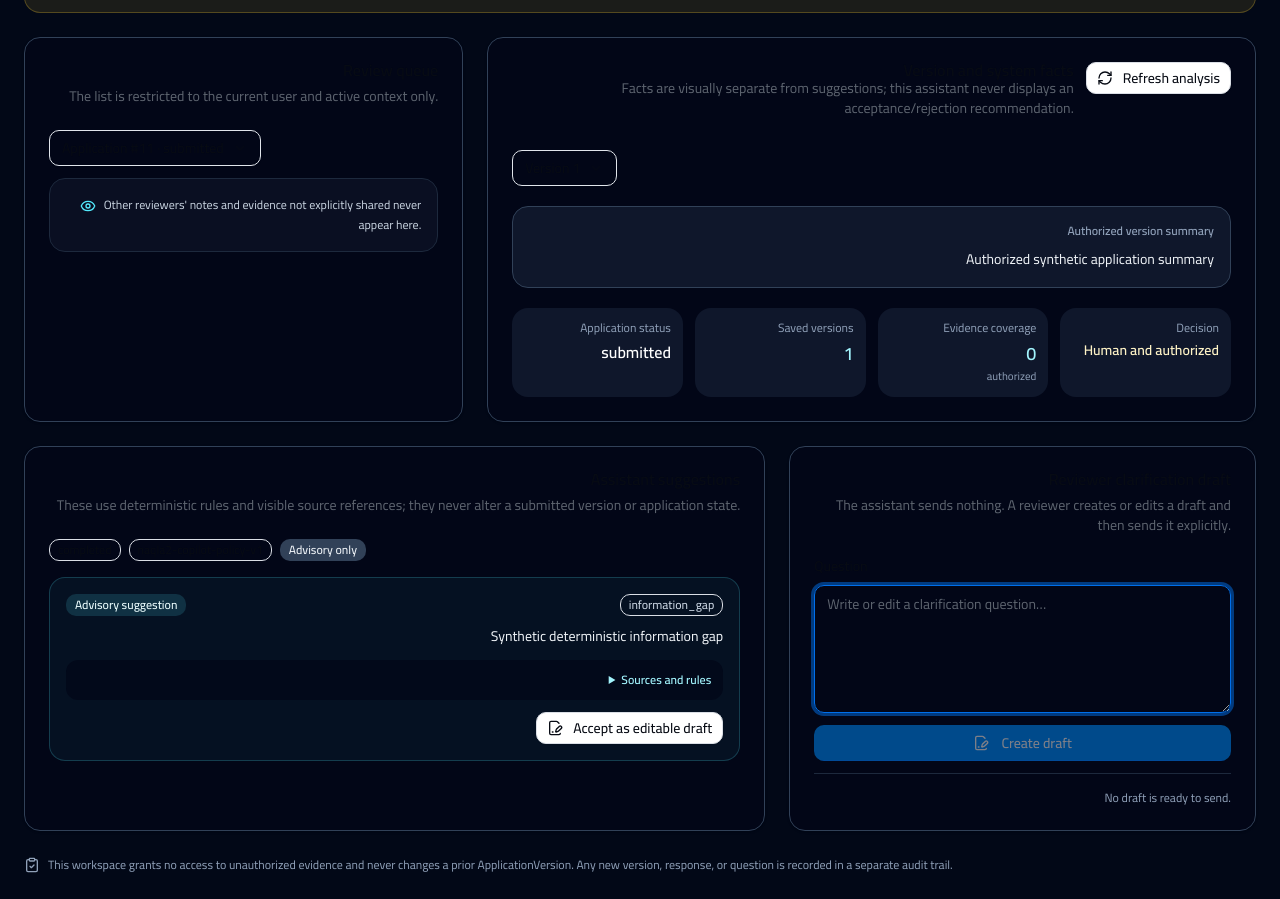
ApplicationCopilotWorkspace rendered integration › exposes semantic reviewer controls with labels and keyboard-focusable human actions
(page scrolled)
Type "Please clarify the synthetic verification boundary." into the text box labelled "Question" at point(1023, 648), box [814, 584, 1231, 712]
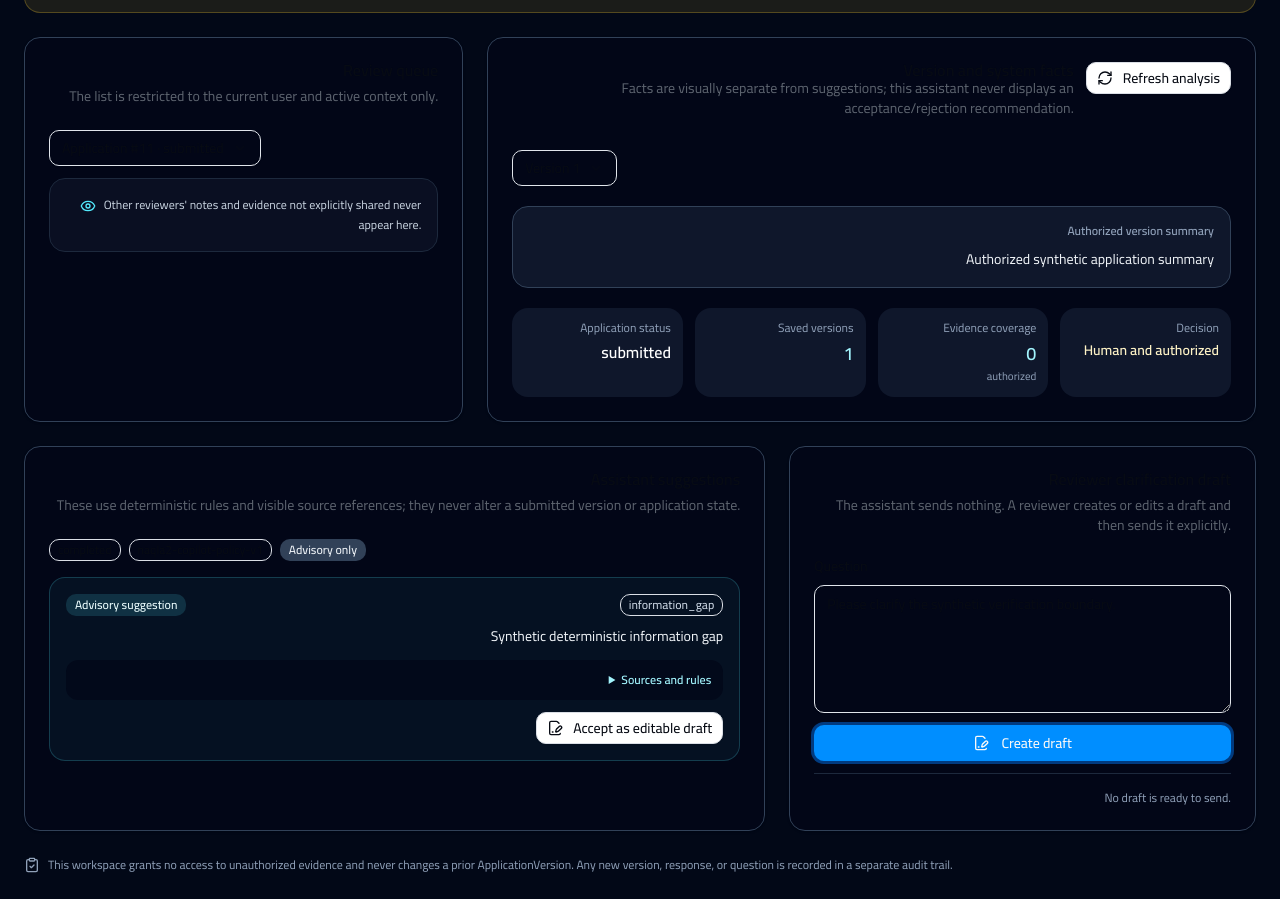
Result: the button "Create draft" is enabled at [814, 724, 1231, 760]
